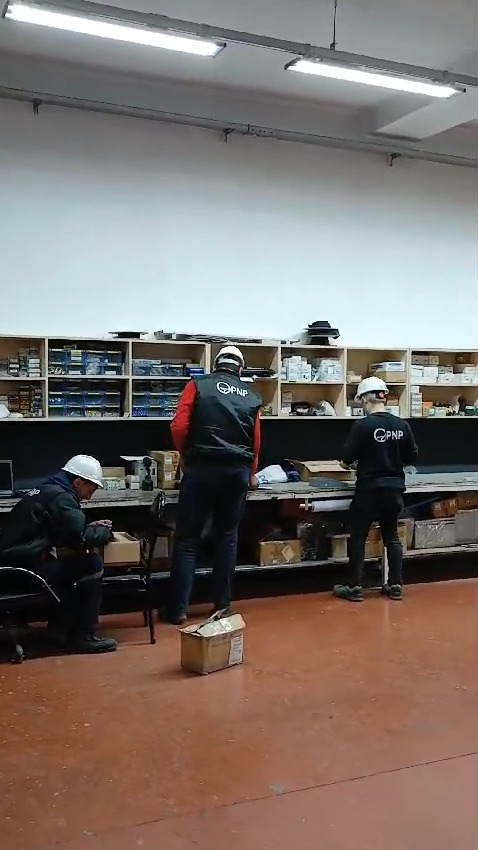safety_helmet: (61, 454, 104, 489), (212, 345, 245, 375), (354, 375, 389, 399)
